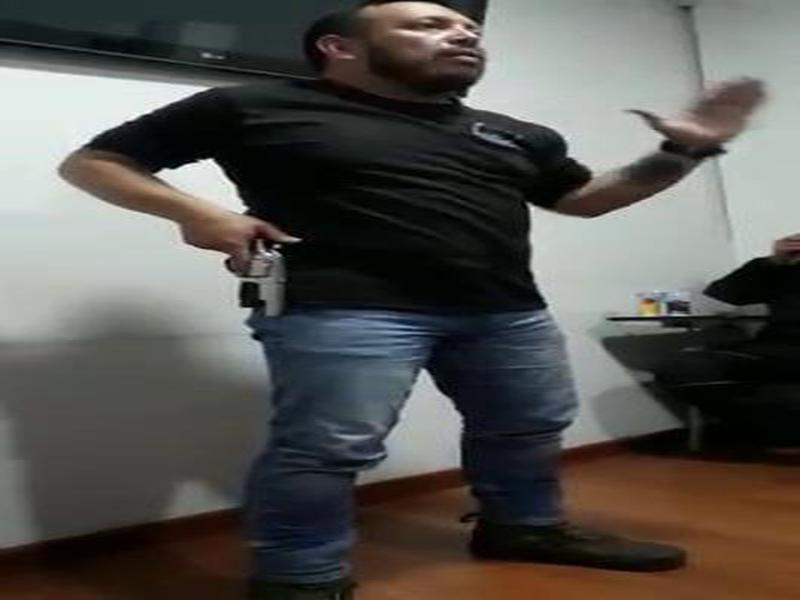Revolver: (222, 214, 297, 343)
